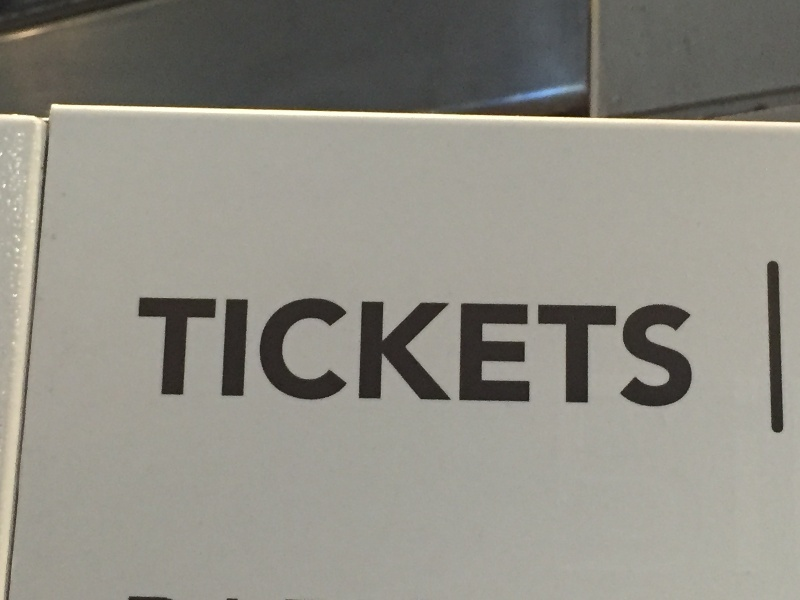text: (145, 296, 160, 408), (161, 296, 176, 408), (177, 296, 192, 408), (193, 296, 208, 408), (209, 296, 224, 408), (225, 296, 240, 408), (241, 296, 256, 408), (257, 296, 272, 408), (273, 296, 288, 408), (289, 296, 304, 408), (305, 296, 320, 408), (321, 296, 336, 408), (337, 296, 352, 408), (353, 296, 368, 408), (369, 296, 384, 408), (385, 296, 400, 408), (401, 296, 416, 408), (417, 296, 432, 408), (433, 296, 448, 408), (449, 296, 464, 408), (465, 296, 480, 408), (481, 296, 496, 408), (497, 296, 512, 408), (513, 296, 528, 408), (529, 296, 544, 408), (545, 296, 560, 408), (561, 296, 576, 408), (577, 296, 592, 408), (593, 296, 608, 408), (609, 296, 624, 408), (625, 296, 640, 408), (641, 296, 656, 408), (657, 296, 672, 408), (673, 296, 688, 408), (138, 296, 144, 408), (689, 296, 694, 408)
